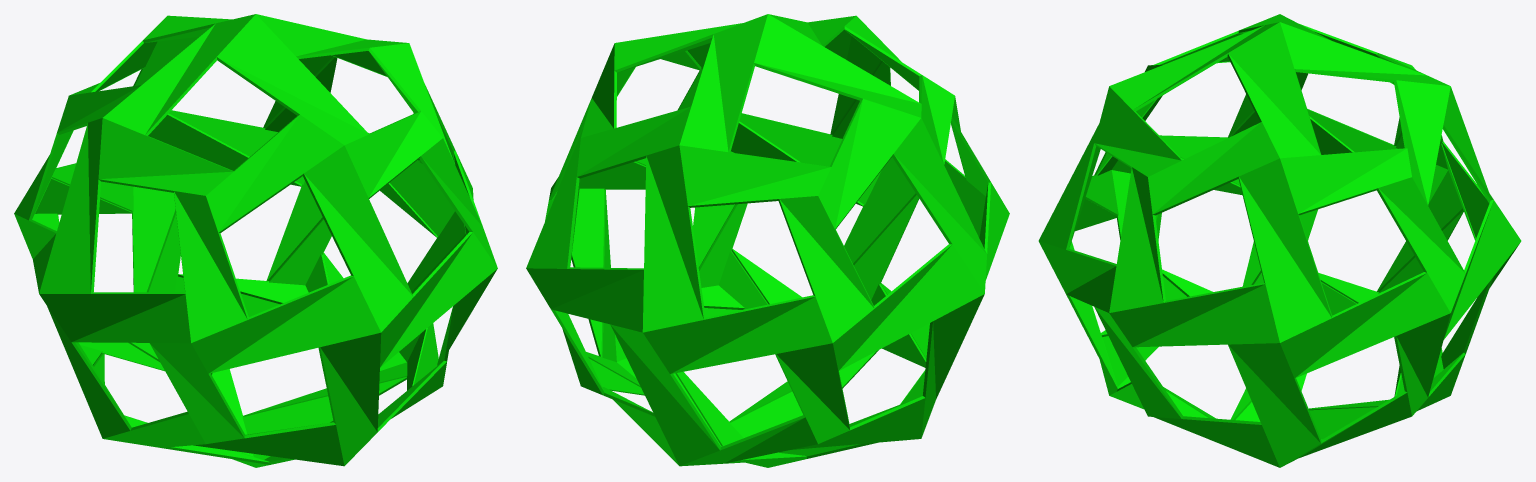
File: DeltoidalIcositetrahedron.glb
The picture shows the model from 3 angles, left to right: view 1: azimuth 30°, elevation 25°; view 2: azimuth 150°, elevation 25°; view 3: azimuth 270°, elevation 25°; orthographic projection. The views are drawn at different scales.
Parts seen in each view (by area): view 1: root; view 2: root; view 3: root.
Part boxes in pixels (x1,y1,x2,y2): root: (14, 14, 497, 467); root: (526, 14, 1009, 467); root: (1038, 14, 1521, 467).
Bounding box in the file's own units: 8.47 × 8.47 × 8.47.
